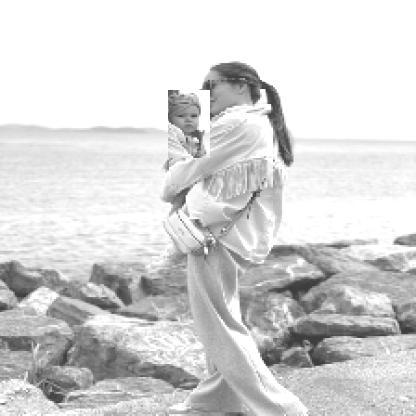child: (169, 91, 212, 160)
